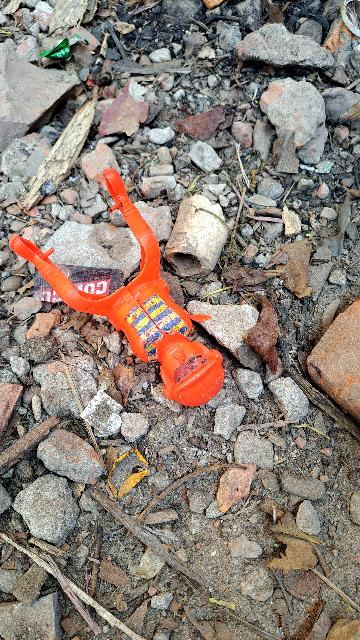hardplastic: (63, 236, 240, 428)
